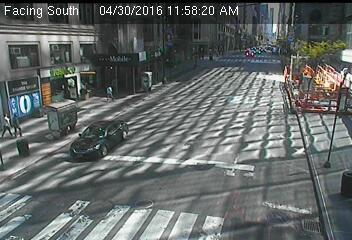neg: (136, 71, 153, 93), (205, 46, 220, 65), (165, 49, 180, 68), (190, 54, 201, 68)
pos: (6, 110, 27, 137), (102, 81, 118, 103)
